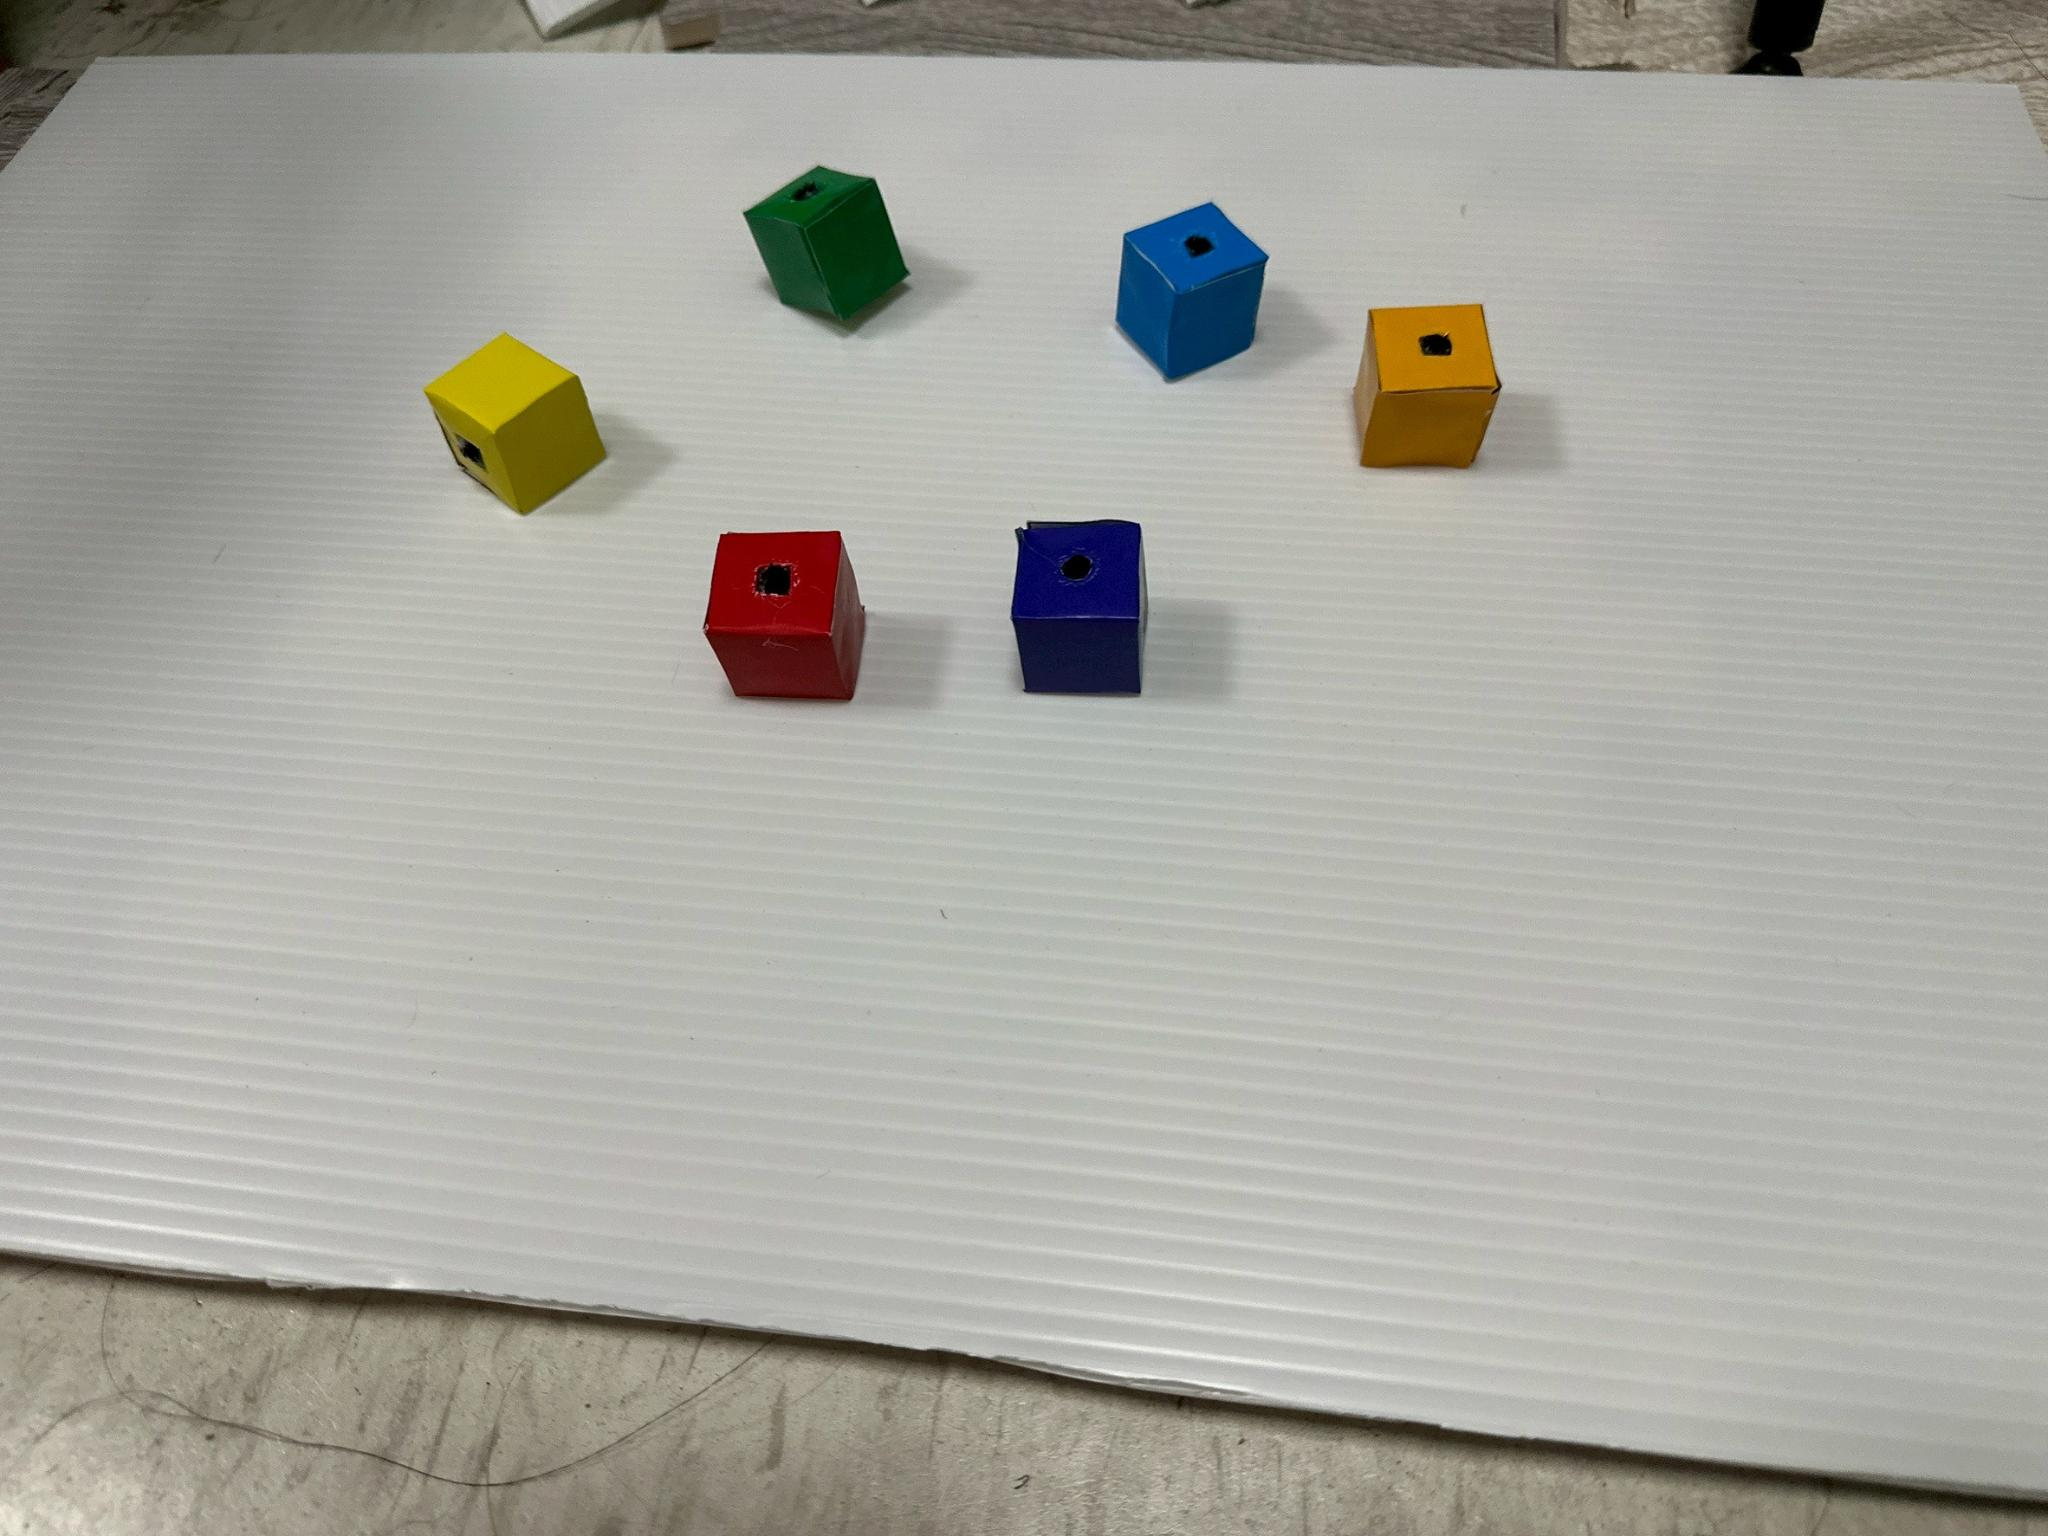cube: (424, 334, 603, 513), (1116, 203, 1268, 379), (705, 532, 864, 699), (743, 166, 906, 319), (1355, 303, 1500, 465), (1011, 521, 1138, 694)
